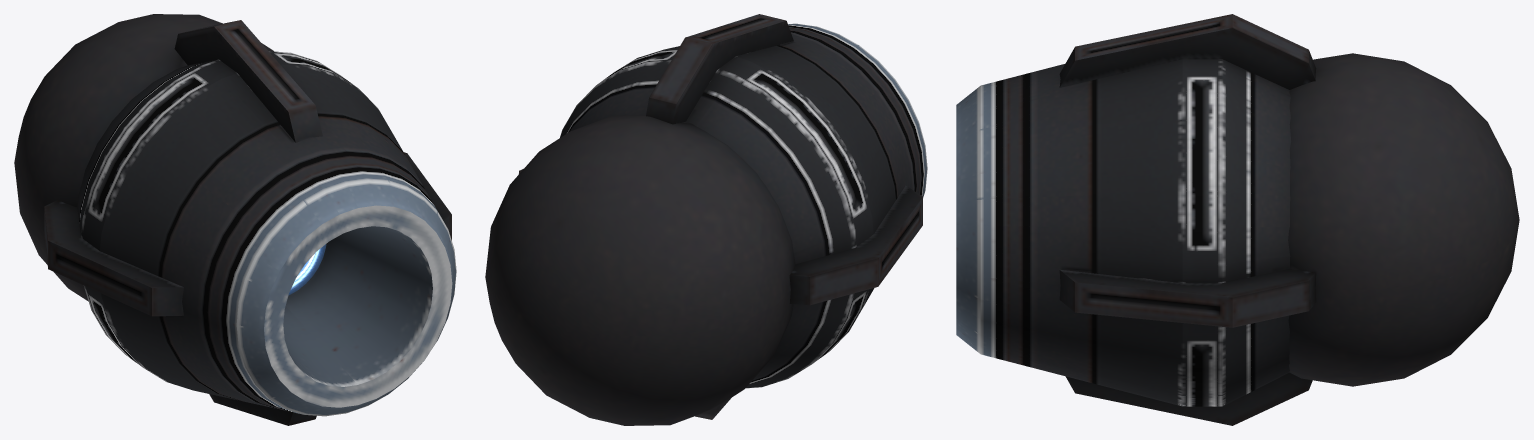
Rendered from ManeuveringThrusterArray3Jet.fbx.
3 renders of one model, left to right at view 1: azimuth 30°, elevation 25°; view 2: azimuth 150°, elevation 25°; view 3: azimuth 270°, elevation 25°, orthographic. The views are drawn at different scales.
Parts seen in each view (by area): view 1: ManeuveringThrusterArray3Jet; view 2: ManeuveringThrusterArray3Jet; view 3: ManeuveringThrusterArray3Jet.
Boxes of the visible parts, <box> form: ManeuveringThrusterArray3Jet: <box>14,14,456,425</box>; ManeuveringThrusterArray3Jet: <box>485,14,927,425</box>; ManeuveringThrusterArray3Jet: <box>956,14,1519,425</box>.
Bounding box in the file's own units: 11.18 × 11.18 × 14.34.
